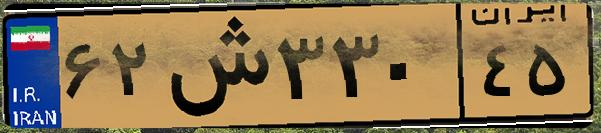0: (385, 28, 445, 110)
2: (110, 28, 158, 98)
3: (270, 28, 330, 110), (330, 28, 385, 110)
4: (475, 38, 525, 113)
5: (525, 38, 570, 115)
6: (57, 26, 110, 100)
ش: (158, 12, 270, 120)
